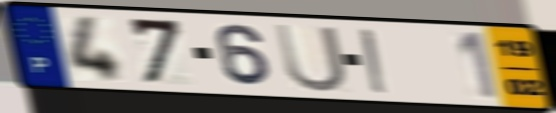1: (452, 29, 500, 102)
4: (64, 13, 129, 85)
6: (214, 22, 274, 89)
7: (128, 15, 186, 86)
I: (356, 26, 392, 96)
U: (271, 21, 351, 95)
